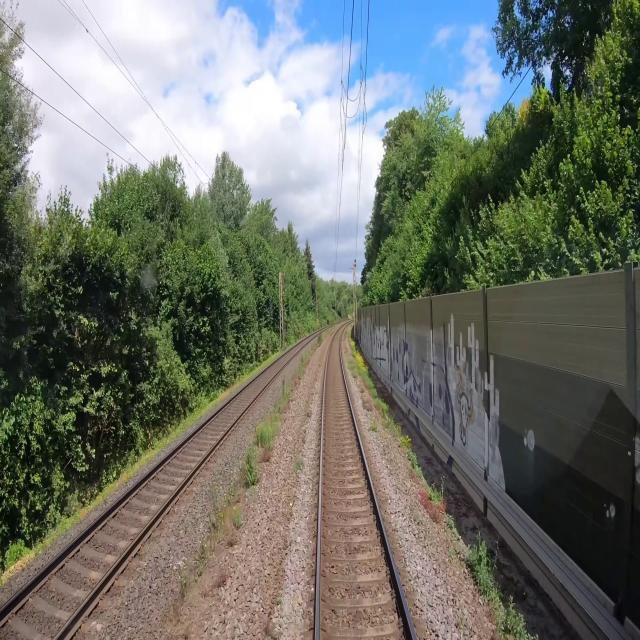Plant: (174, 330, 332, 606), (348, 360, 362, 376), (293, 457, 304, 473), (369, 421, 377, 434)
